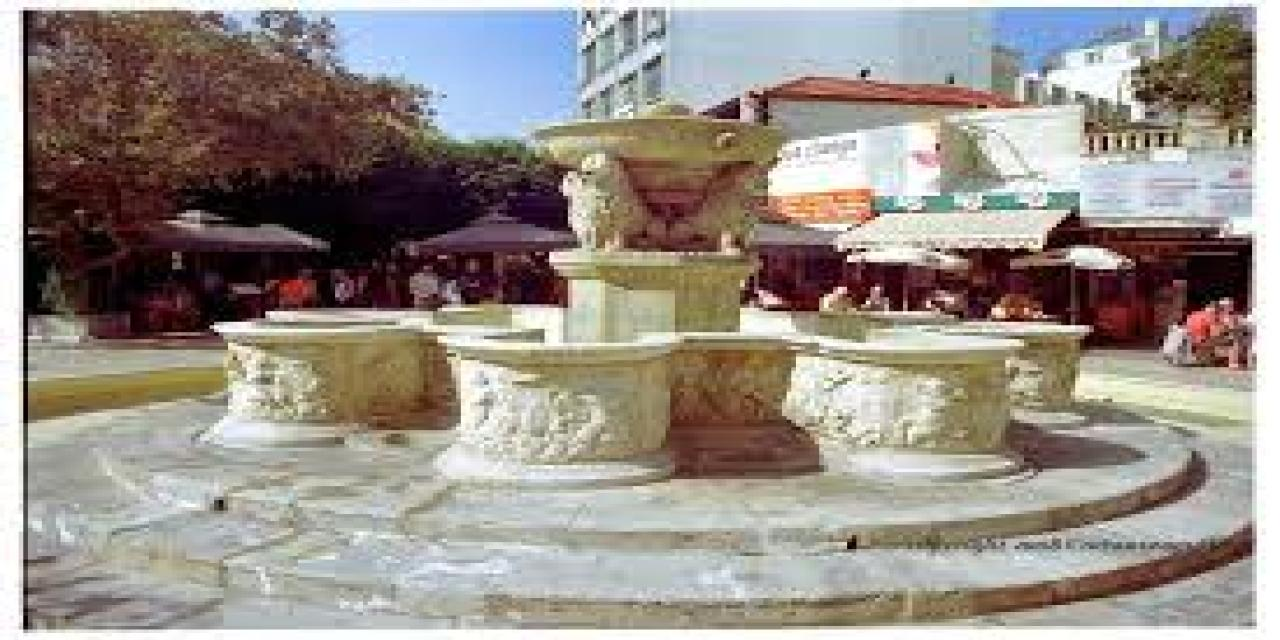Liontaria: (209, 105, 1100, 500)
